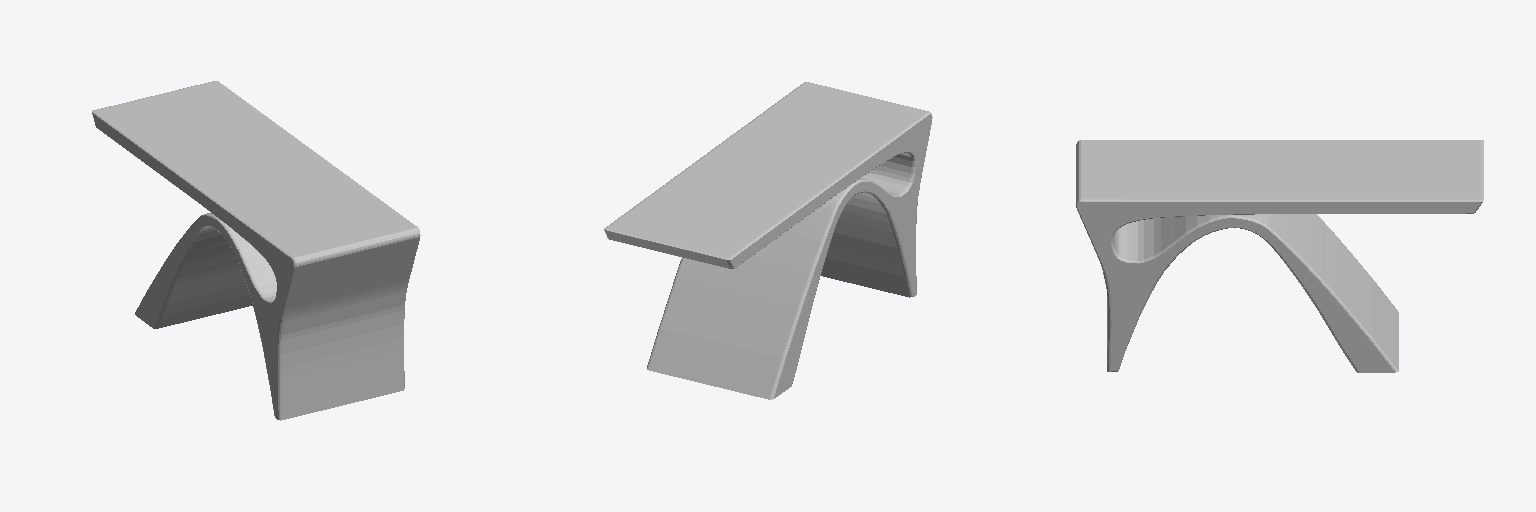
File: Desk.obj
The picture shows the model from 3 angles: view 1: azimuth 30°, elevation 25°; view 2: azimuth 150°, elevation 25°; view 3: azimuth 270°, elevation 25°; orthographic projection.
Visible parts, largest first — view 1: Material_001-material; view 2: Material_001-material; view 3: Material_001-material.
Part boxes in pixels (left/top/right/bottom): Material_001-material: left=92, top=81, right=420, bottom=420; Material_001-material: left=604, top=82, right=932, bottom=399; Material_001-material: left=1076, top=140, right=1483, bottom=372.
Size of the model in its own units: 0.6574 by 0.8534 by 1.83.